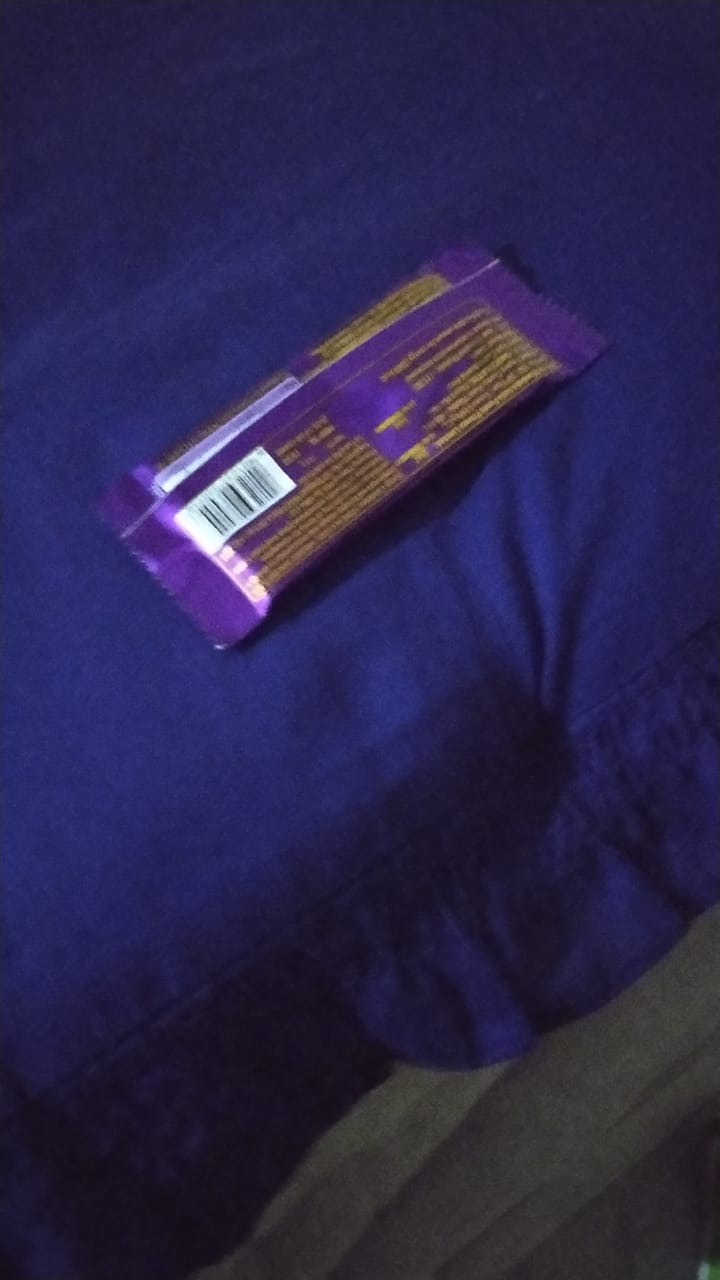dairy milk: (96, 192, 568, 680)
